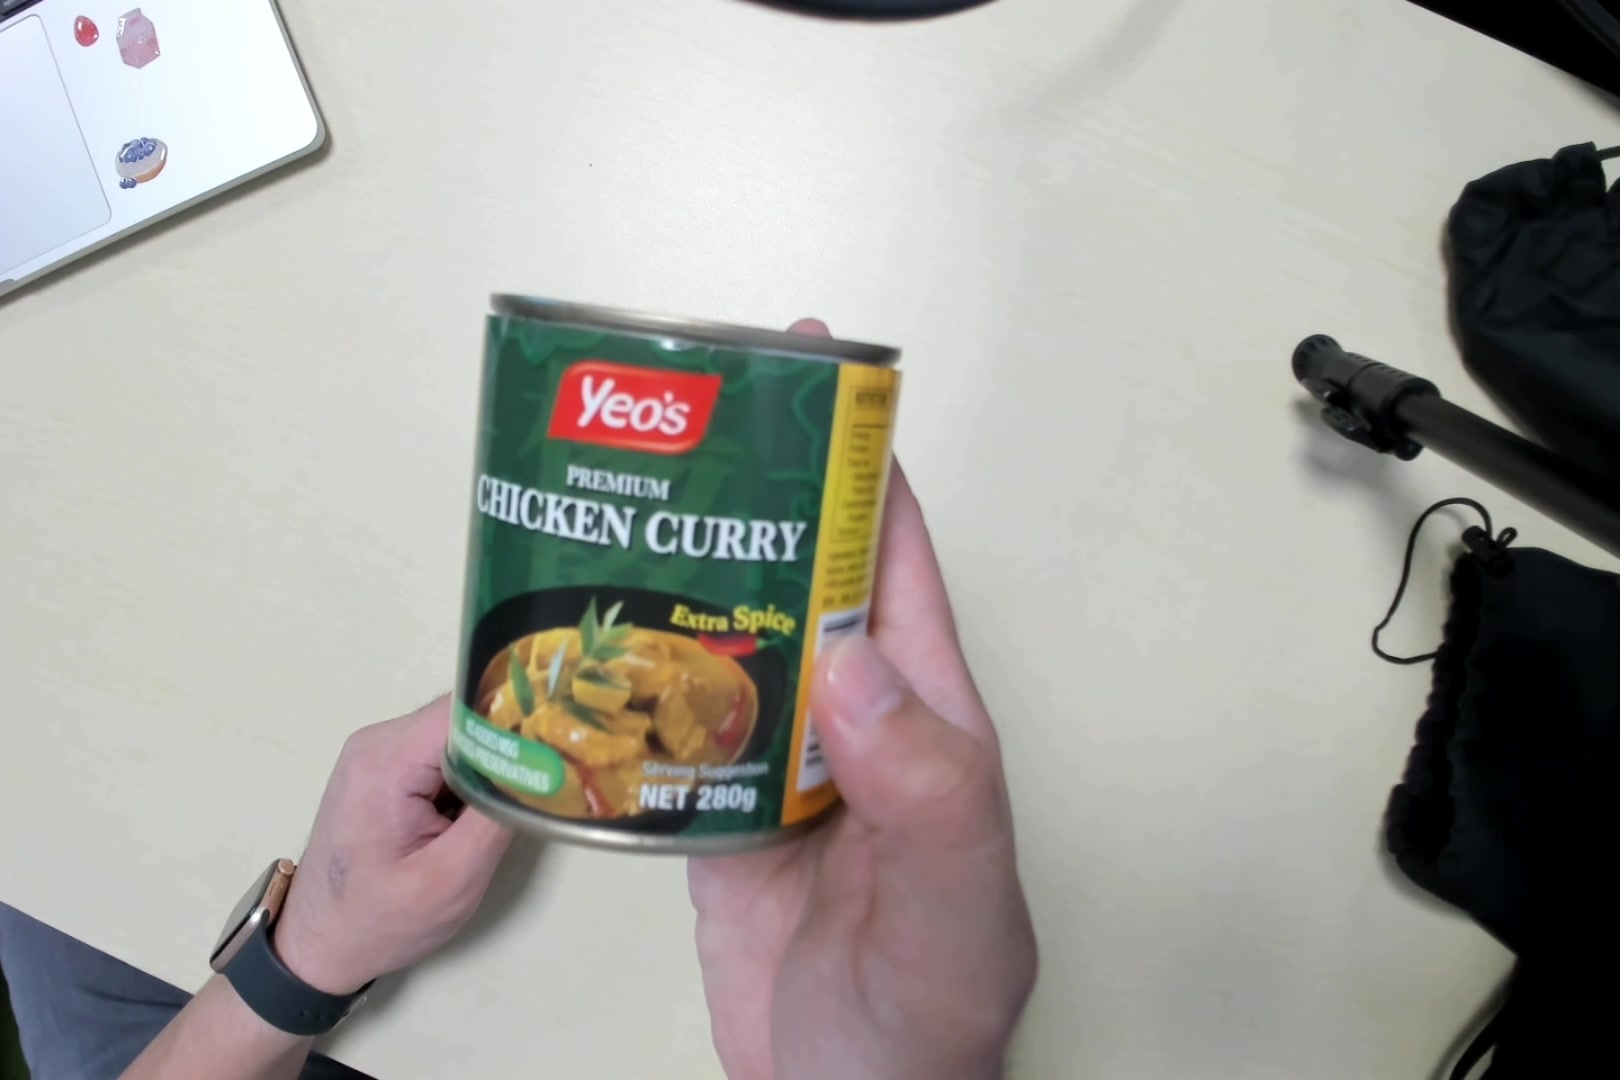CannedChicken_100-199g_Halal_NonHealthy: (441, 303, 898, 852)
